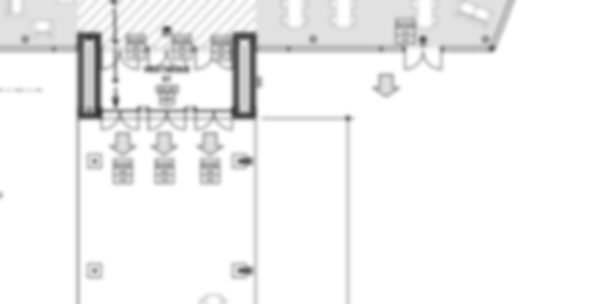double door: (401, 45, 445, 74), (100, 107, 140, 132), (146, 108, 187, 132), (194, 108, 235, 132)
